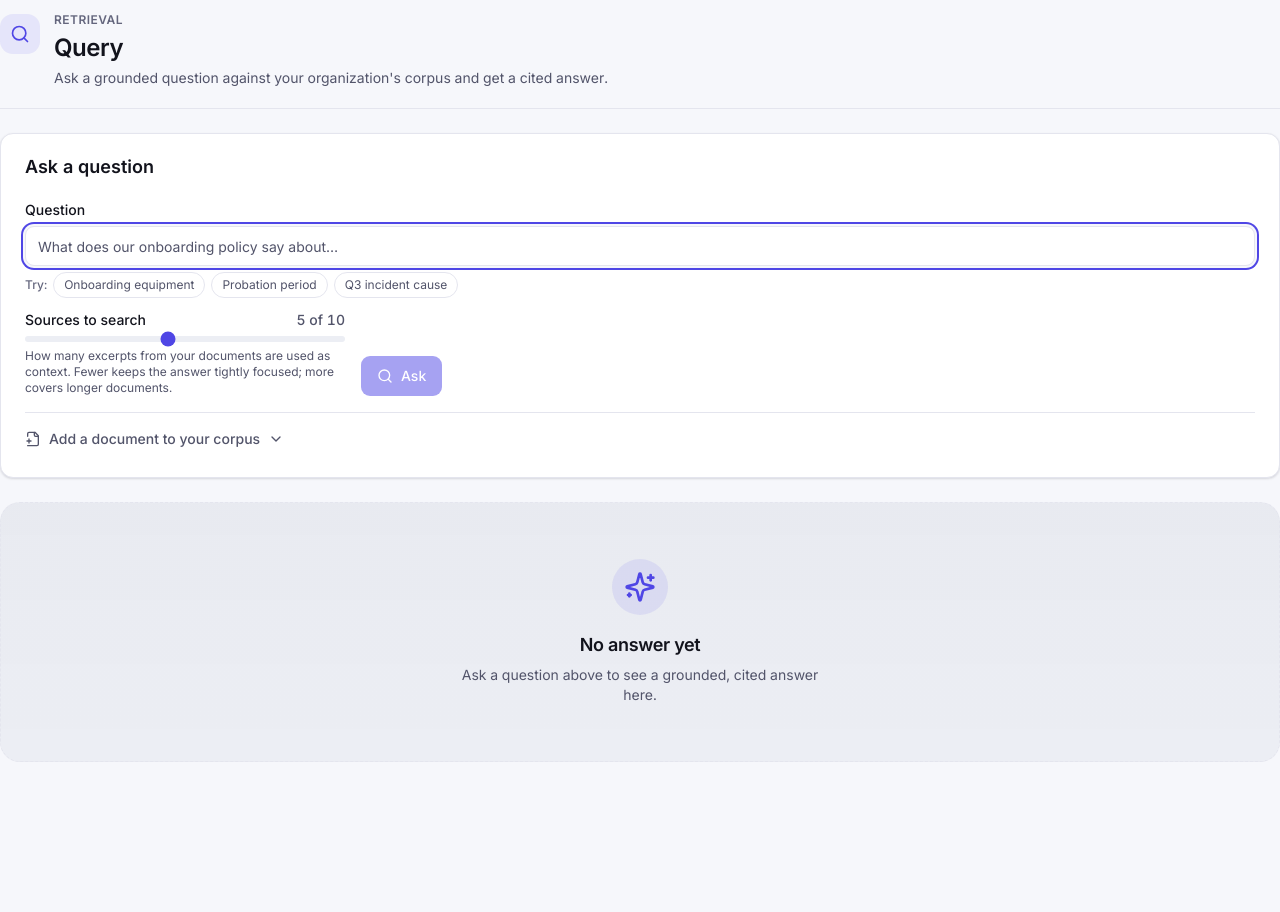
Cross-cutting error handling (Task 26.1) › maps 422 validation_error to field errors (5.3)
The width and height of the screenshot is (1280, 912).
Type "what is the policy" into the field with test id "query-input" at {"x": 640, "y": 246}, box [25,226,1255,266]
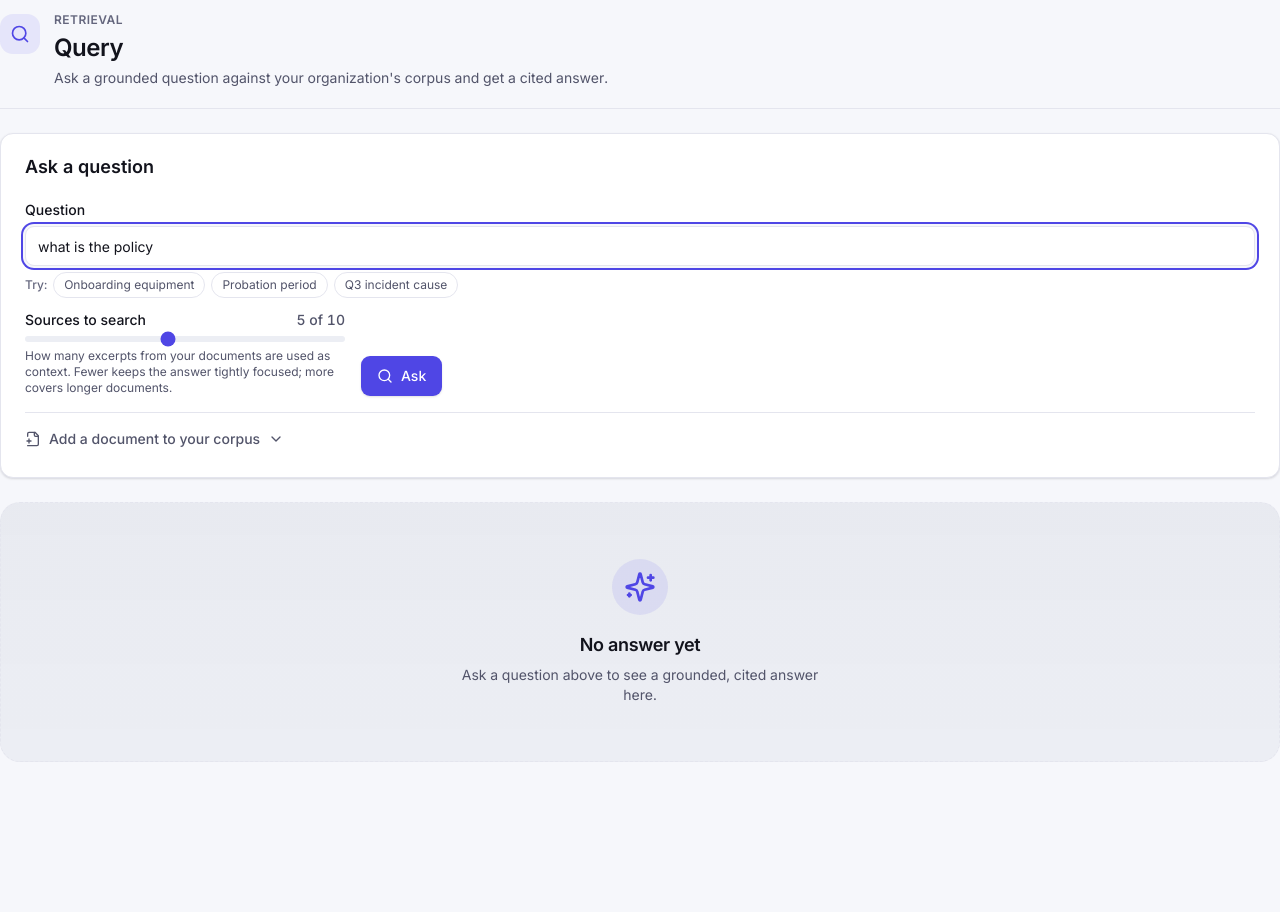
Click the button with test id "query-submit" at {"x": 402, "y": 376}, box [361,356,442,396]
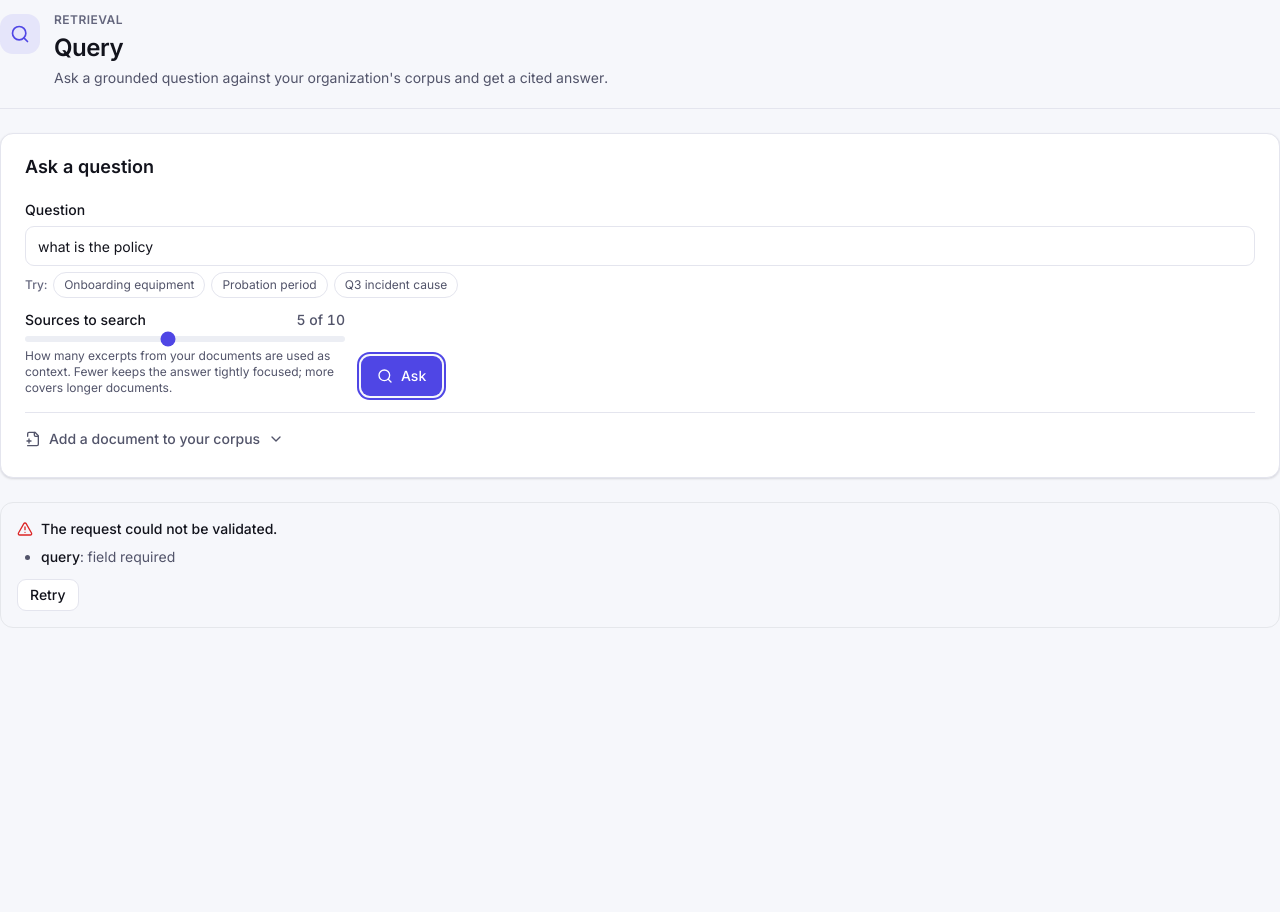
Result: the element with test id "query-error" is shown at [0,502,1279,628]
Result: the list with test id "error-field-errors" shows "query" at [41,548,80,565]
Result: the list with test id "error-field-errors" shows "field required" at [88,548,175,565]
